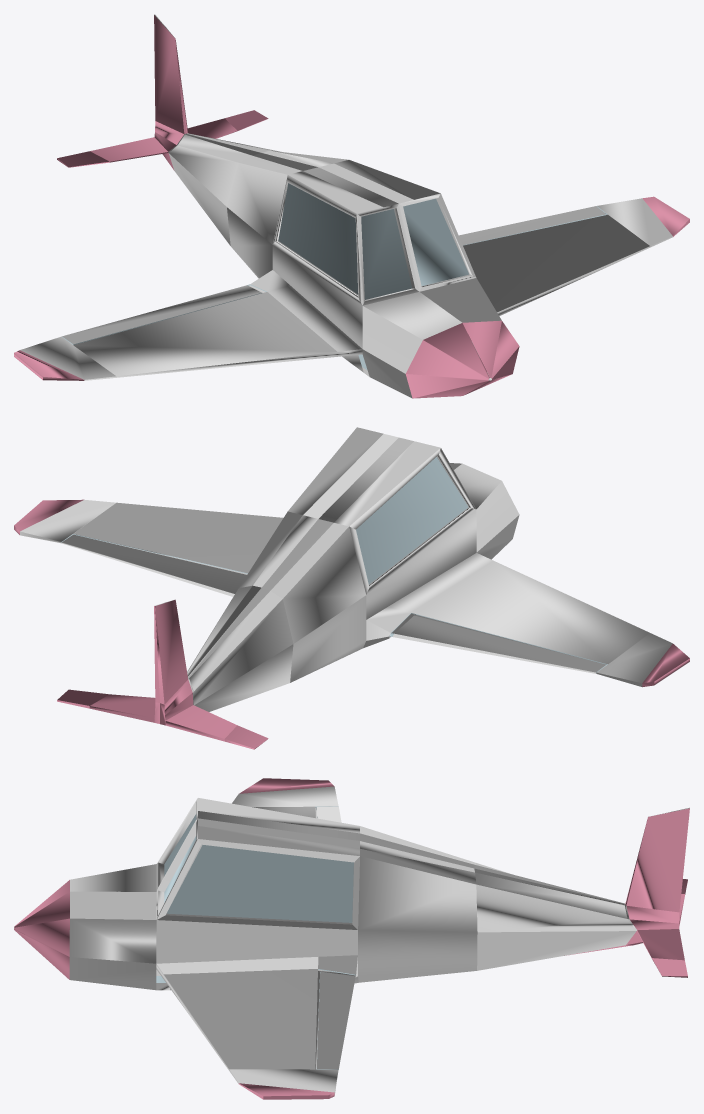
3 views of the same model, one above another, from view 1: azimuth 30°, elevation 25°; view 2: azimuth 150°, elevation 25°; view 3: azimuth 270°, elevation 25° (orthographic).
Parts seen in each view (by area): view 1: Cube_3; view 2: Cube_3; view 3: Cube_3.
Boxes of the visible parts, box(x1,y1,x2,y2) form: Cube_3: box(14, 14, 689, 398); Cube_3: box(14, 427, 689, 749); Cube_3: box(14, 778, 689, 1099).
Bounding box in the file's own units: 16.68 × 4.22 × 14.98.
